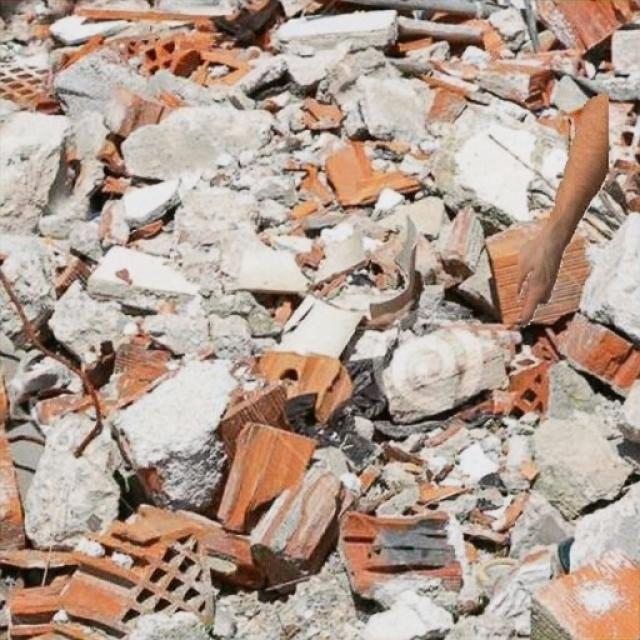Person in Rubble: (518, 92, 608, 326)
